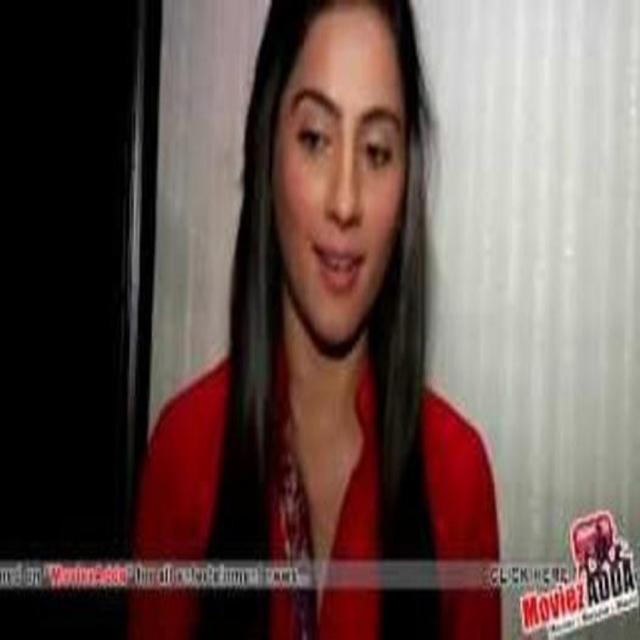nomask: (276, 6, 406, 342)
